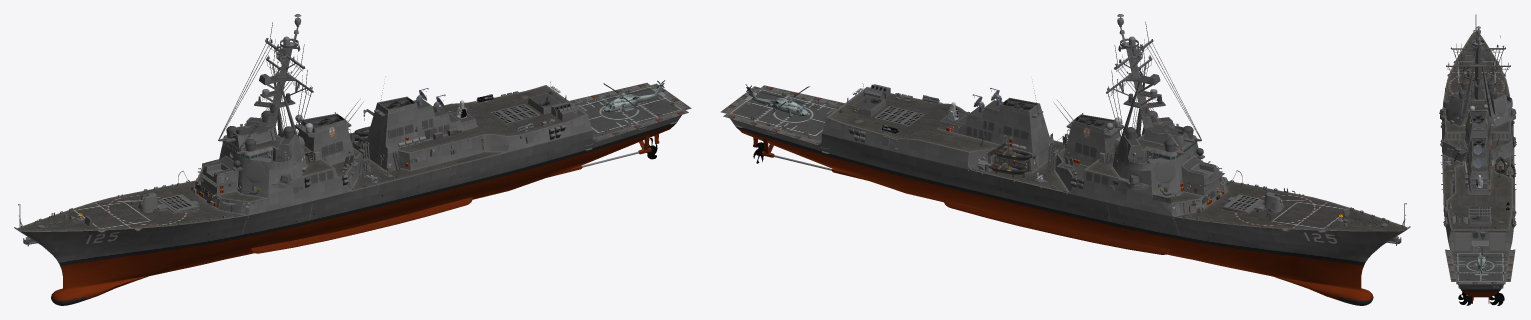
The model's file is source.glb.
3 views of the same model, side by side, from view 1: azimuth 30°, elevation 25°; view 2: azimuth 150°, elevation 25°; view 3: azimuth 270°, elevation 25° (orthographic). The views are drawn at different scales.
Visible parts, largest first — view 1: Object_10, Object_11, Object_6, Object_23; view 2: Object_10, Object_11, Object_6, Object_23; view 3: Object_10, Object_11, Object_6, Object_16, Object_23, Object_15, Object_8, Object_7, Object_20.
Part boxes in pixels (<box>): Object_10: <box>14,14,684,305</box>; Object_11: <box>44,43,691,226</box>; Object_6: <box>138,110,300,210</box>; Object_23: <box>588,83,664,113</box>; Object_10: <box>727,14,1410,305</box>; Object_11: <box>720,43,1381,224</box>; Object_6: <box>1119,111,1284,210</box>; Object_23: <box>746,86,821,117</box>; Object_10: <box>1439,14,1516,303</box>; Object_11: <box>1445,49,1515,284</box>; Object_6: <box>1450,75,1505,114</box>; Object_16: <box>1458,145,1504,305</box>; Object_23: <box>1455,246,1508,275</box>; Object_15: <box>1473,145,1482,167</box>; Object_8: <box>1468,106,1505,237</box>; Object_7: <box>1455,241,1470,245</box>; Object_20: <box>1476,175,1482,187</box>.
Size of the model in its own units: 10368 by 3453 by 1461.
Materials: 11 (11 with a texture image).
